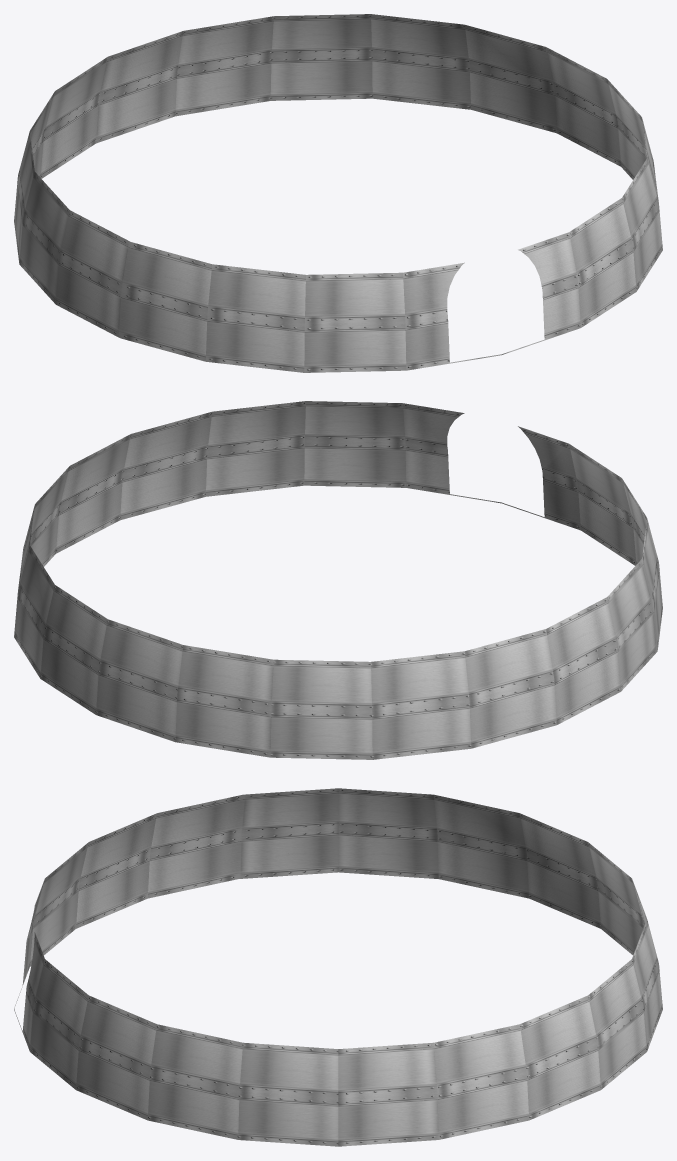
File: FachadaB.obj
The picture shows the model from 3 angles, top to bottom: view 1: azimuth 30°, elevation 25°; view 2: azimuth 150°, elevation 25°; view 3: azimuth 270°, elevation 25°; orthographic projection.
Parts seen in each view (by area): view 1: polySurface6 polySurface2 Fachada:polySurface2; view 2: polySurface6 polySurface2 Fachada:polySurface2; view 3: polySurface6 polySurface2 Fachada:polySurface2.
Part boxes in pixels (bbox=[...]): polySurface6 polySurface2 Fachada:polySurface2: bbox=[14, 14, 662, 372]; polySurface6 polySurface2 Fachada:polySurface2: bbox=[14, 401, 662, 759]; polySurface6 polySurface2 Fachada:polySurface2: bbox=[14, 788, 662, 1146].
Size of the model in its own units: 6.61 by 1.02 by 6.61.
Materials: 1 (1 with a texture image).
